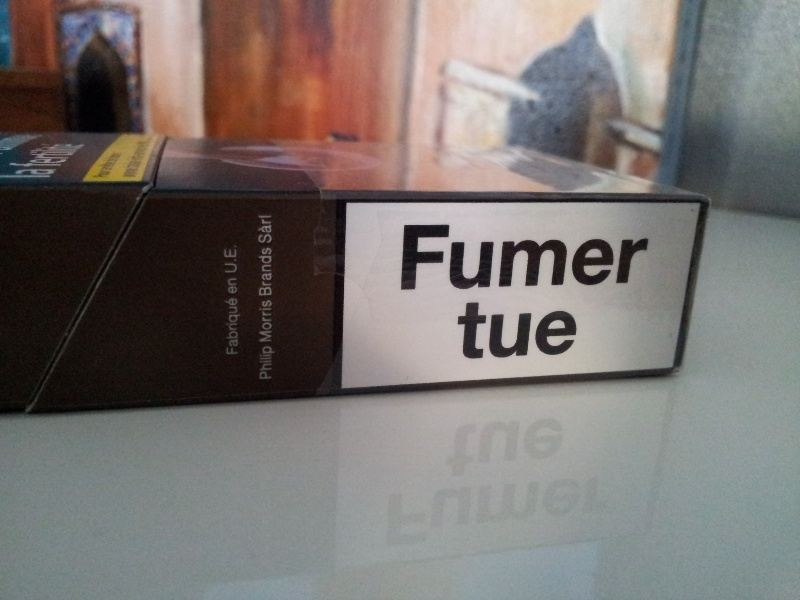text: (417, 223, 432, 293), (433, 223, 448, 293), (449, 223, 464, 293), (465, 223, 480, 293), (481, 223, 496, 293), (497, 223, 512, 293), (513, 223, 528, 293), (529, 223, 544, 293), (545, 223, 560, 293), (561, 223, 576, 293), (577, 223, 592, 293), (593, 223, 608, 293), (609, 223, 624, 293), (625, 223, 640, 293), (465, 301, 480, 361), (481, 301, 496, 361), (497, 301, 512, 361), (513, 301, 528, 361), (529, 301, 544, 361), (545, 301, 560, 361), (561, 301, 576, 361), (225, 298, 240, 357), (404, 223, 416, 293), (641, 223, 652, 293), (129, 133, 144, 181), (258, 246, 272, 297), (49, 134, 64, 179), (65, 134, 80, 179), (145, 133, 159, 181), (259, 299, 272, 344), (259, 345, 272, 382), (118, 133, 128, 181), (97, 149, 112, 181), (38, 134, 48, 179), (81, 134, 91, 179), (225, 245, 238, 274), (259, 215, 272, 244), (458, 301, 464, 361), (113, 149, 124, 181), (577, 301, 581, 361), (228, 278, 240, 294), (273, 345, 278, 382), (92, 149, 96, 181), (241, 298, 243, 357), (273, 299, 275, 344), (223, 298, 224, 357), (273, 215, 274, 244)
